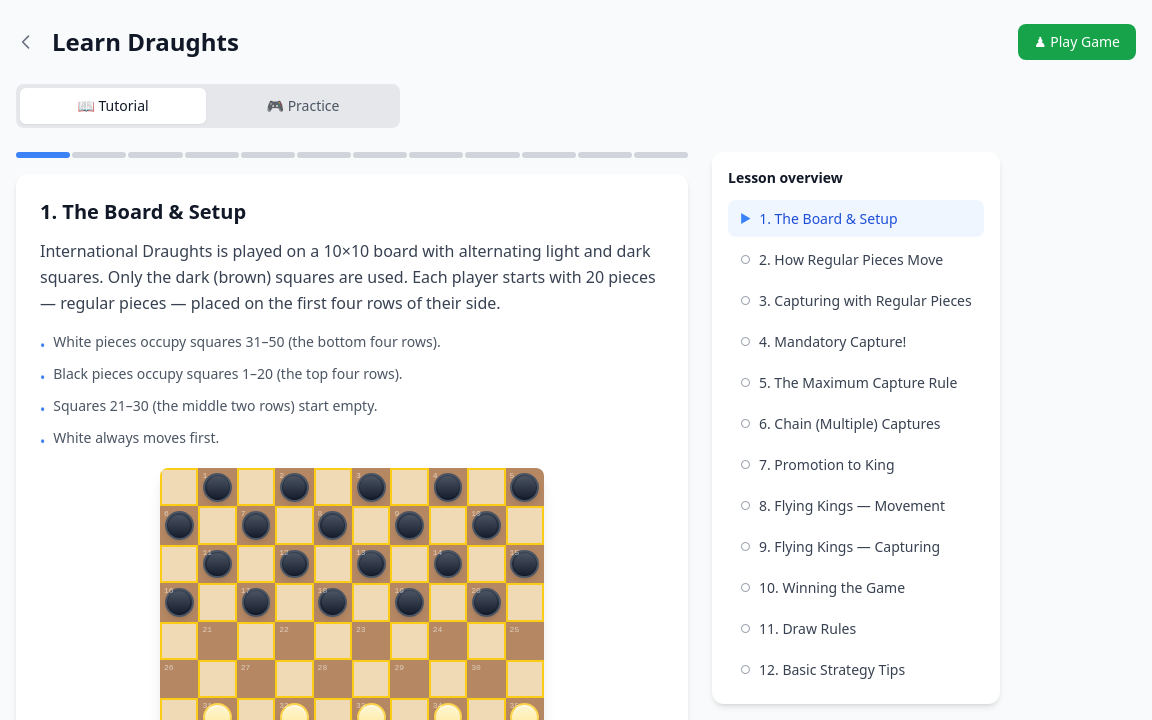
Test: LearnPage › shows practice tab when clicked
The width and height of the screenshot is (1152, 720).
Click the tab "🎮 Practice" at (303, 106), box [210, 88, 396, 124]
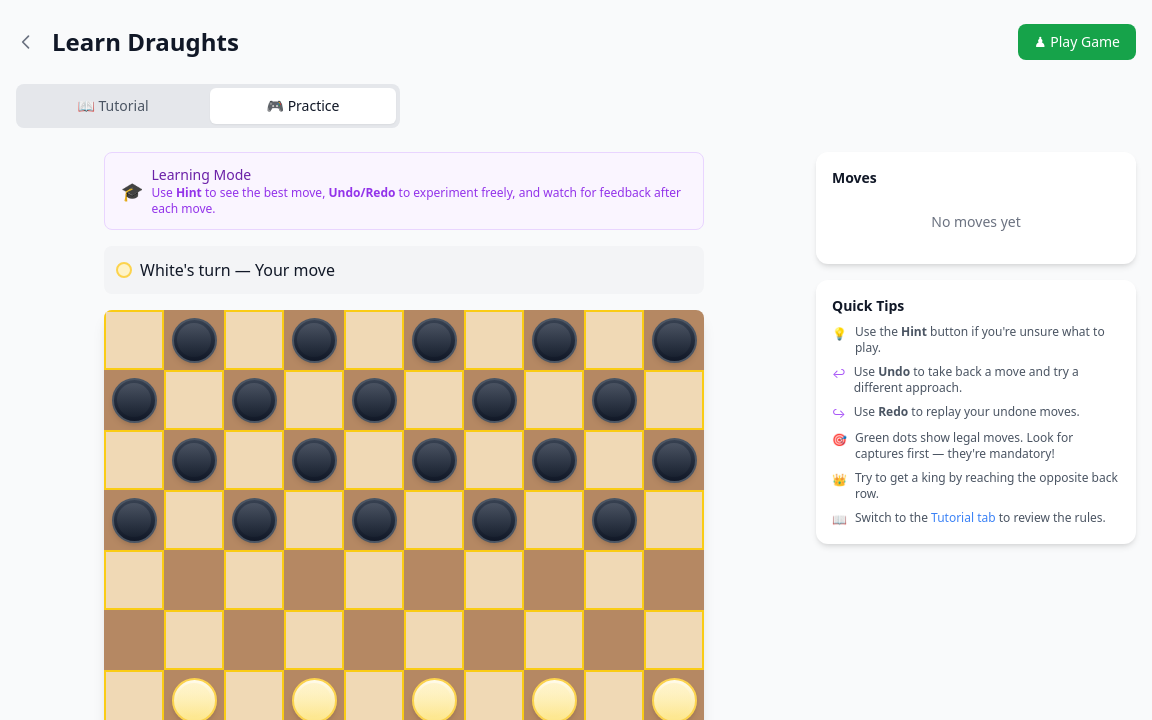
Expected: the text "Learning Mode" is shown, [152, 165, 251, 184]
